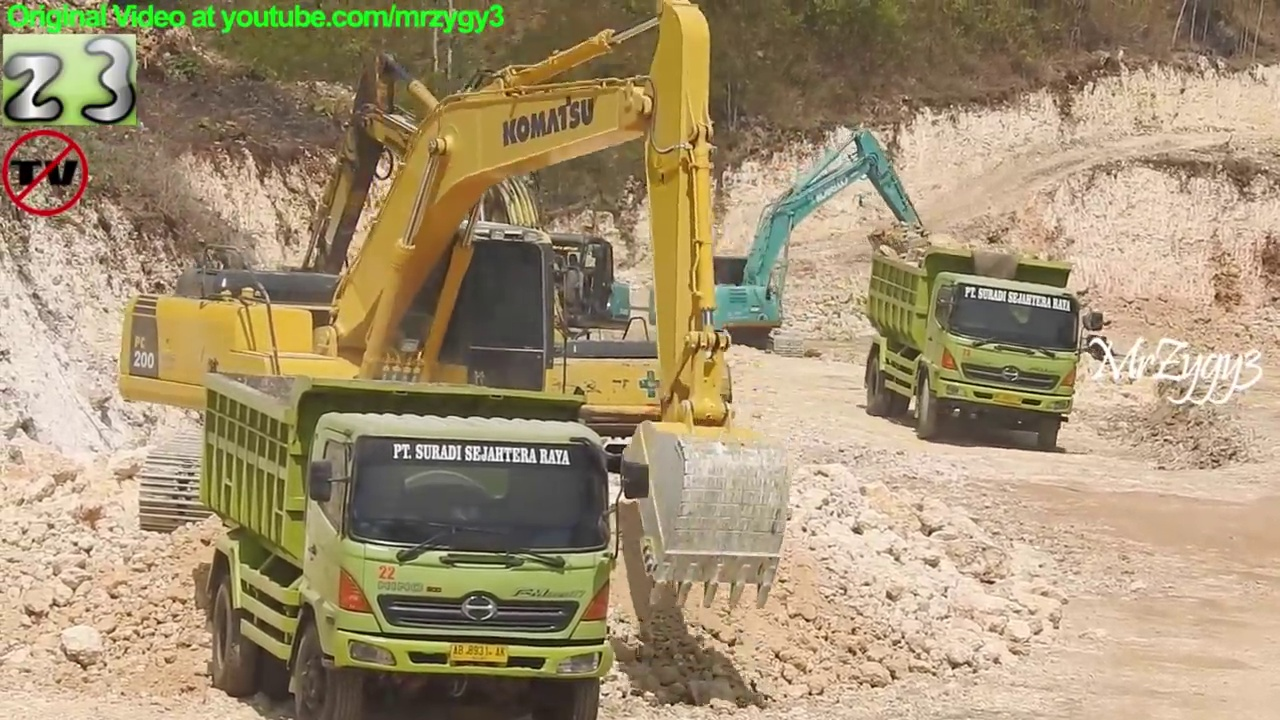excavator: (111, 1, 800, 614), (240, 48, 729, 506), (381, 61, 648, 369), (641, 121, 937, 367)
truck: (198, 364, 660, 720), (858, 220, 1113, 454)
